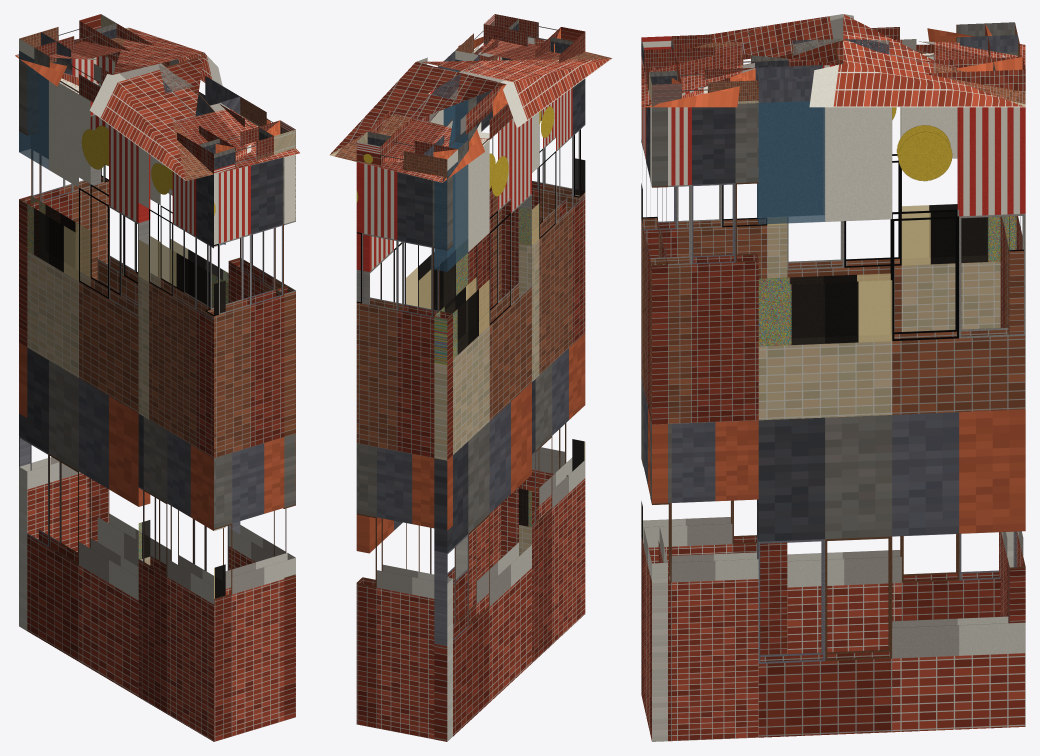
The picture shows the model from 3 angles, left to right: view 1: azimuth 30°, elevation 25°; view 2: azimuth 150°, elevation 25°; view 3: azimuth 270°, elevation 25°; orthographic projection. The views are drawn at different scales.
Parts seen in each view (by area): view 1: 238568850__wall_1_xb, 238568850__wall_2_xb, 238568850__wall_3_xb, 238568850__wall_0_xb, 238568850__wall_4_xb, 238568850_roof_left_xb, 238568850__wall_5_xb, 238568850__wall_1_xf, 238568850_roof_front_xb, 238568850_roof_right_xb, 238568850__cornice_5, 238568850__wall_5_xf (+7 smaller); view 2: 238568850__wall_1_xb, 238568850__wall_0_xb, 238568850__wall_2_xb, 238568850__wall_5_xb, 238568850__wall_4_xb, 238568850__wall_3_xb, 238568850_roof_left_xb, 238568850__wall_1_xf, 238568850_roof_right_xb, 238568850_roof_back_xb, 238568850__wall_5_xf, 238568850__cornice_0 (+7 smaller); view 3: 238568850__wall_5_xb, 238568850__wall_4_xb, 238568850__wall_1_xb, 238568850__wall_5_xf, 238568850__wall_3_xb, 238568850__wall_2_xb, 238568850_roof_right_xb, 238568850__wall_1_xf, 238568850__wall_0_xb, 238568850__cornice_5, 238568850_roof_left_xb, 238568850_roof_front_xb (+5 smaller).
Part boxes in pixels (left/top/right/bottom): 238568850__wall_1_xb: left=19, top=65, right=150, bottom=696; 238568850__wall_2_xb: left=138, top=147, right=225, bottom=741; 238568850__wall_3_xb: left=205, top=156, right=295, bottom=741; 238568850__wall_0_xb: left=19, top=57, right=109, bottom=630; 238568850__wall_4_xb: left=228, top=154, right=295, bottom=720; 238568850_roof_left_xb: left=15, top=53, right=204, bottom=180; 238568850__wall_5_xb: left=89, top=55, right=240, bottom=571; 238568850__wall_1_xf: left=19, top=66, right=90, bottom=280; 238568850_roof_front_xb: left=158, top=64, right=299, bottom=180; 238568850_roof_right_xb: left=113, top=27, right=299, bottom=152; 238568850__cornice_5: left=79, top=14, right=240, bottom=114; 238568850__wall_5_xf: left=162, top=111, right=228, bottom=307; 238568850__wall_1_xb: left=434, top=117, right=531, bottom=741; 238568850__wall_0_xb: left=356, top=163, right=452, bottom=741; 238568850__wall_2_xb: left=519, top=79, right=585, bottom=662; 238568850__wall_5_xb: left=356, top=70, right=468, bottom=624; 238568850__wall_4_xb: left=455, top=44, right=501, bottom=609; 238568850__wall_3_xb: left=489, top=57, right=585, bottom=557; 238568850_roof_left_xb: left=416, top=58, right=612, bottom=182; 238568850__wall_1_xf: left=434, top=165, right=489, bottom=364; 238568850_roof_right_xb: left=330, top=36, right=506, bottom=154; 238568850_roof_back_xb: left=329, top=73, right=460, bottom=182; 238568850__wall_5_xf: left=406, top=71, right=467, bottom=309; 238568850__cornice_0: left=356, top=131, right=457, bottom=178; 238568850__wall_5_xb: left=757, top=101, right=1025, bottom=737; 238568850__wall_4_xb: left=650, top=103, right=758, bottom=741; 238568850__wall_1_xb: left=787, top=53, right=1016, bottom=653; 238568850__wall_5_xf: left=757, top=101, right=950, bottom=345; 238568850__wall_3_xb: left=641, top=104, right=667, bottom=741; 238568850__wall_2_xb: left=641, top=86, right=787, bottom=654; 238568850_roof_right_xb: left=642, top=14, right=1024, bottom=107; 238568850__wall_1_xf: left=902, top=204, right=1015, bottom=264; 238568850__wall_0_xb: left=999, top=216, right=1025, bottom=623; 238568850__cornice_5: left=755, top=57, right=1025, bottom=102; 238568850_roof_left_xb: left=696, top=14, right=1024, bottom=63; 238568850_roof_front_xb: left=641, top=39, right=842, bottom=107.
Size of the model in its own units: 0.1476 by 0.7443 by 0.3841.
Materials: 1 (1 with a texture image).
